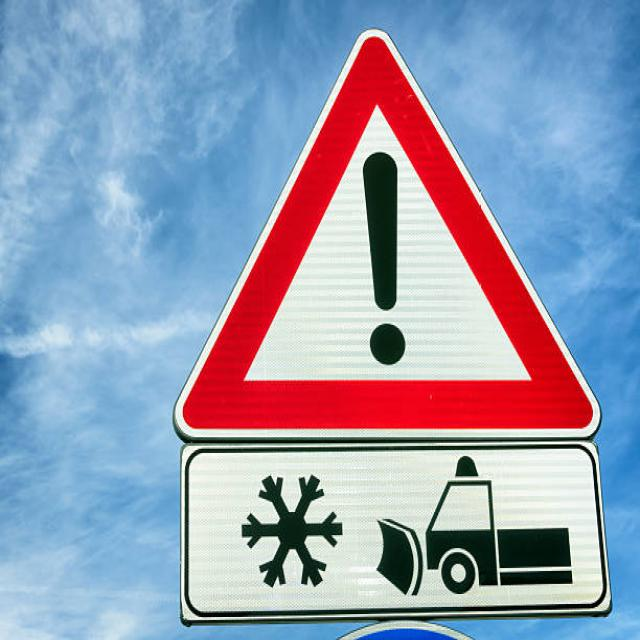warning: (169, 7, 604, 452)
